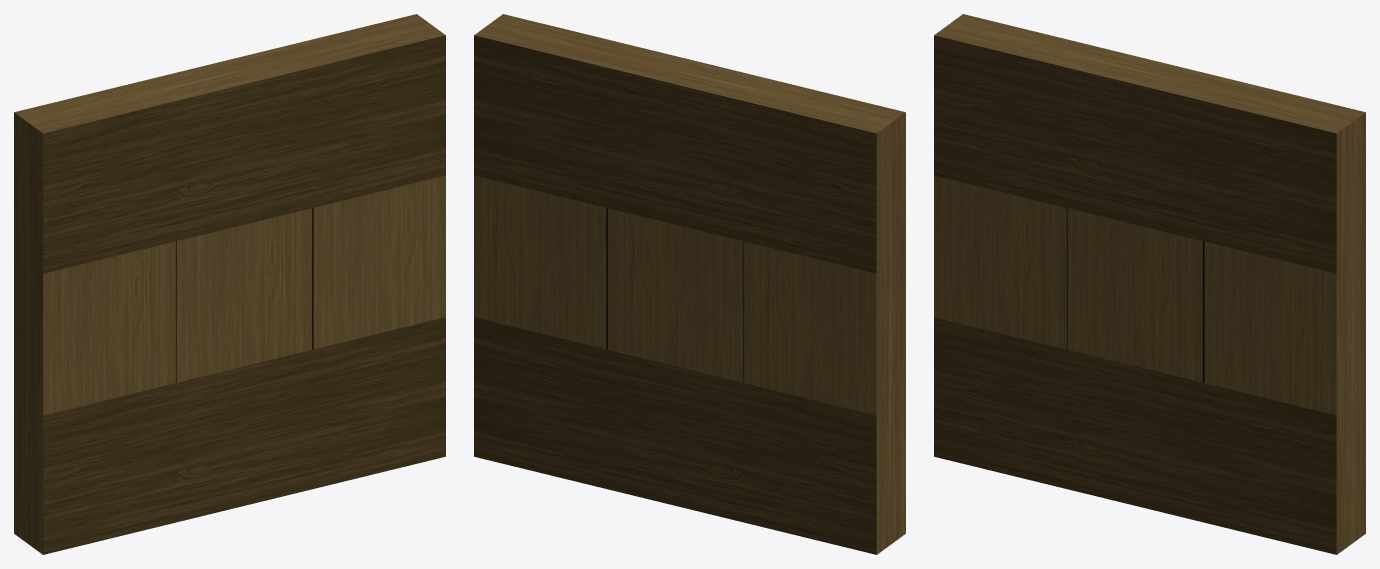
The model's file is Window.fbx.
3 views of the same model, side by side, from view 1: azimuth 30°, elevation 25°; view 2: azimuth 150°, elevation 25°; view 3: azimuth 330°, elevation 25° (orthographic).
Visible parts, largest first — view 1: pCube2; view 2: pCube2; view 3: pCube2.
Part boxes in pixels (left/top/right/bottom): pCube2: left=14, top=14, right=445, bottom=554; pCube2: left=474, top=14, right=905, bottom=554; pCube2: left=934, top=14, right=1365, bottom=554.
Size of the model in its own units: 2 by 2 by 0.25.
